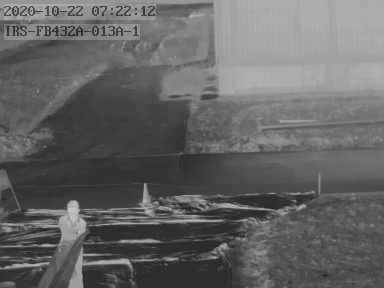person: (54, 199, 85, 288)
